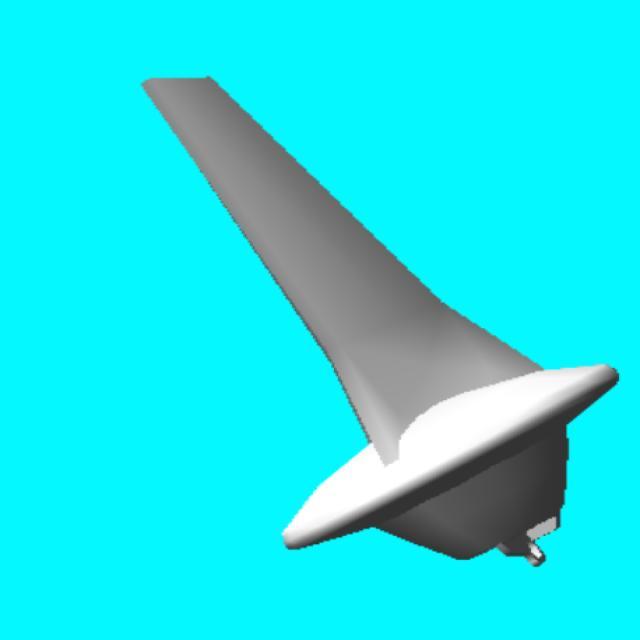WhiteBuoy: (144, 79, 617, 566)
